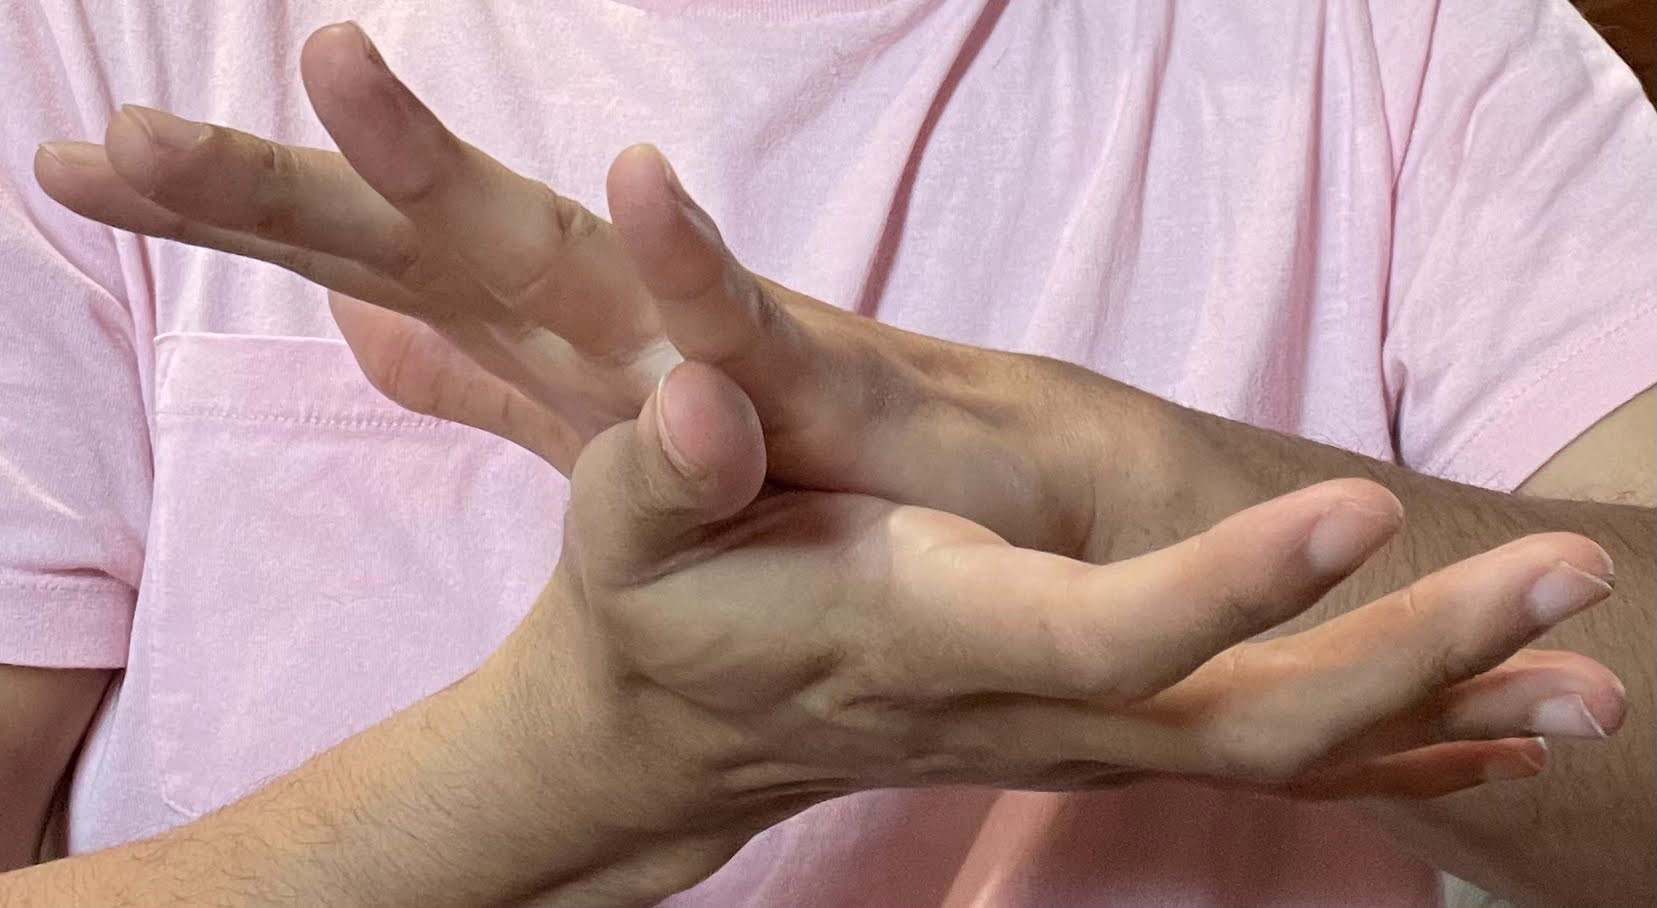cheese: (32, 18, 1632, 835)
